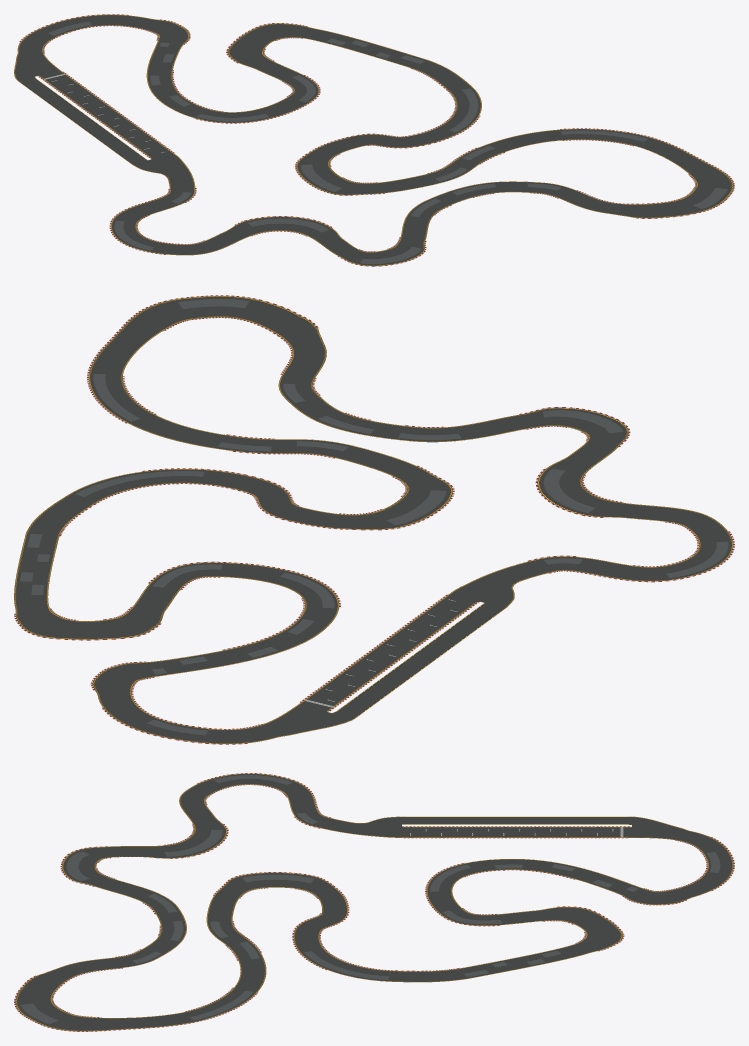
The model's file is Road.FBX.
3 views of the same model, one above another, from view 1: azimuth 30°, elevation 25°; view 2: azimuth 150°, elevation 25°; view 3: azimuth 270°, elevation 25° (orthographic). The views are drawn at different scales.
Parts seen in each view (by area): view 1: Road; view 2: Road; view 3: Road.
Boxes of the visible parts, x1,y1,x2,y2 form: Road: [14, 14, 734, 266]; Road: [14, 295, 734, 744]; Road: [14, 773, 734, 1031].
Size of the model in its own units: 353236 by 50.04 by 415608.
Materials: 1 (1 with a texture image).
